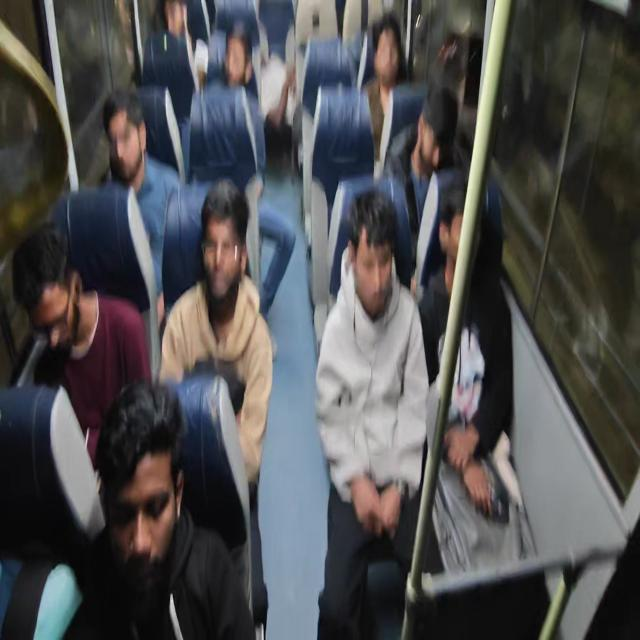person: (96, 377, 187, 583), (11, 220, 85, 352), (338, 186, 402, 325), (196, 171, 252, 316), (99, 90, 154, 191), (433, 186, 488, 282), (412, 80, 454, 169), (366, 15, 414, 89), (156, 2, 200, 47), (219, 24, 247, 94)
